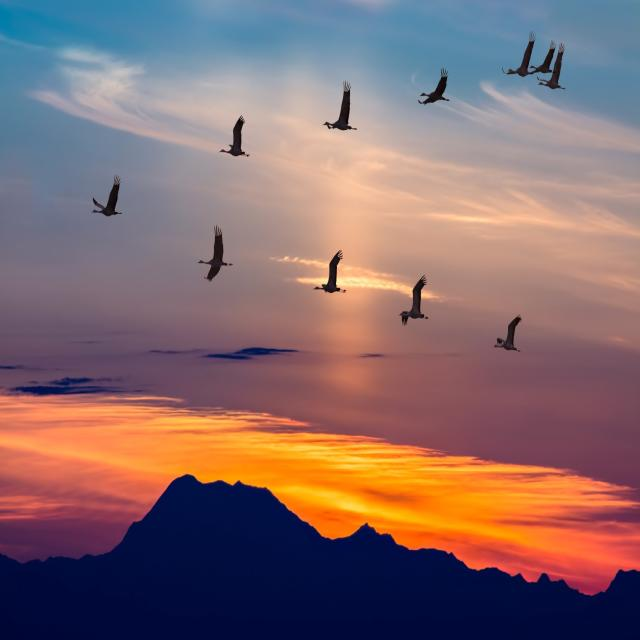bird: (505, 30, 542, 77), (202, 228, 233, 284), (324, 82, 356, 133), (536, 44, 568, 92), (400, 276, 429, 324), (91, 178, 125, 218), (314, 251, 345, 293), (417, 66, 450, 105), (221, 118, 250, 159), (494, 317, 524, 355)
